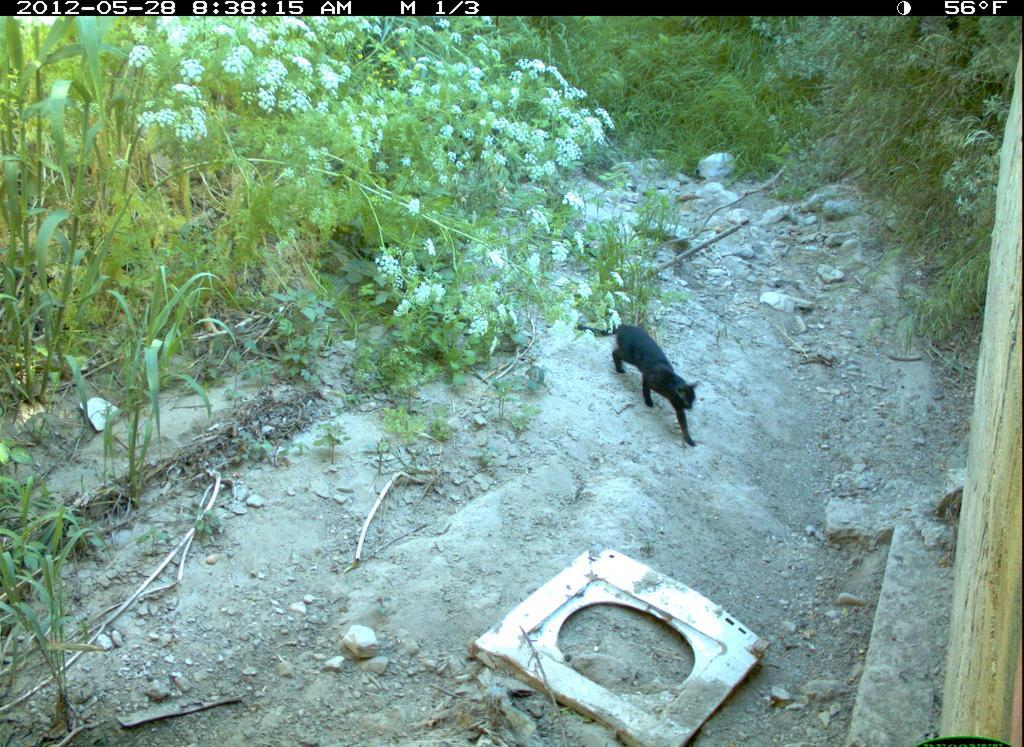cat: (577, 308, 715, 457)
